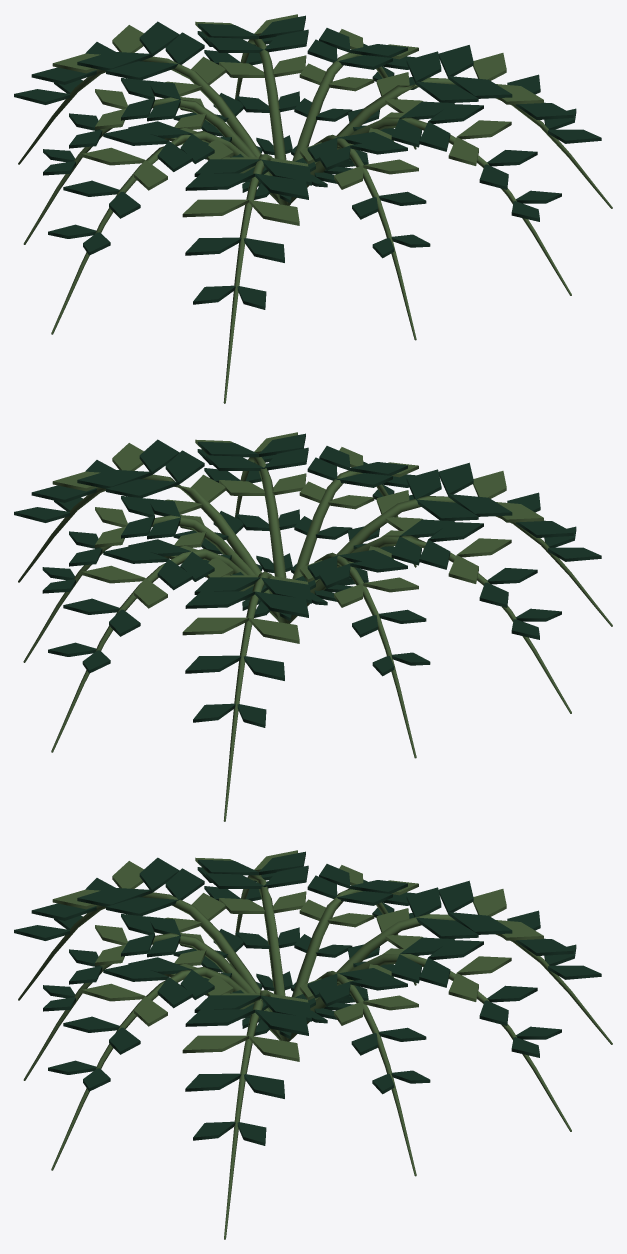
The model's file is GroundFern.fbx.
3 views of the same model, one above another, from view 1: azimuth 30°, elevation 25°; view 2: azimuth 150°, elevation 25°; view 3: azimuth 270°, elevation 25° (orthographic).
Visible parts, largest first — view 1: GroundFern; view 2: GroundFern; view 3: GroundFern.
Boxes of the visible parts, x1,y1,x2,y2 form: GroundFern: (14,14,612,403); GroundFern: (14,432,612,821); GroundFern: (14,850,612,1239).
Size of the model in its own units: 222 by 61.62 by 207.
